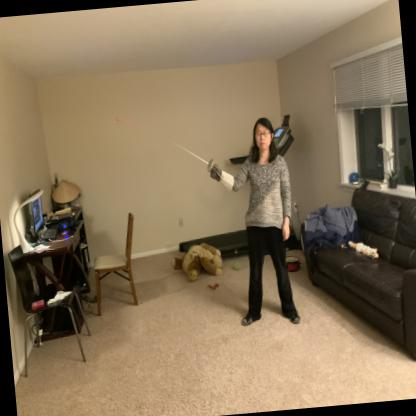foil-tip: (110, 110, 128, 136)
hand-and-foil: (104, 90, 235, 196)
